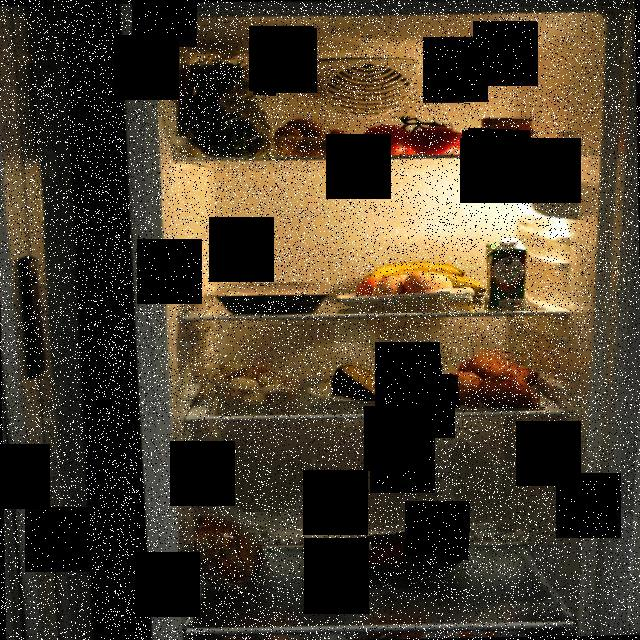banana: (361, 260, 487, 302)
beef: (301, 531, 475, 589)
bread: (194, 512, 269, 594)
cheese: (328, 360, 416, 401)
corn: (478, 112, 538, 156)
eggs: (356, 276, 450, 311)
heavy_cream: (484, 238, 529, 310)
mushrooms: (213, 355, 300, 404)
potato: (267, 114, 359, 157)
spinach: (182, 56, 276, 160)
sweet_potato: (433, 348, 540, 408)
tomato: (362, 101, 470, 155)
